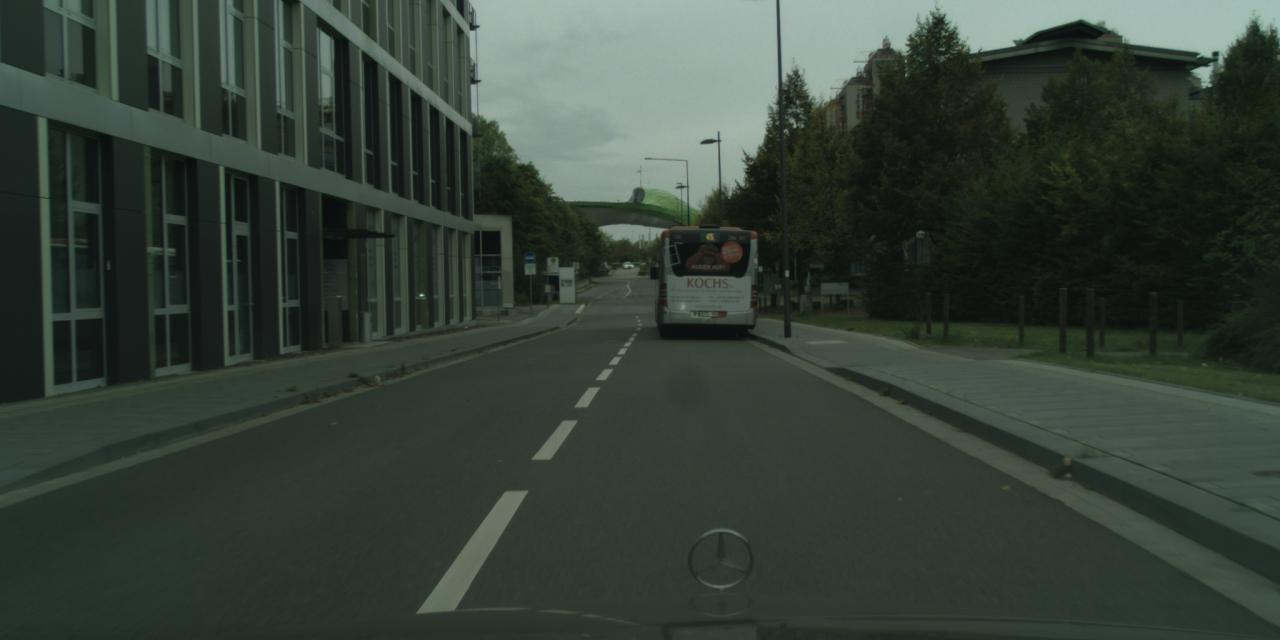ped: (638, 258, 643, 269)
